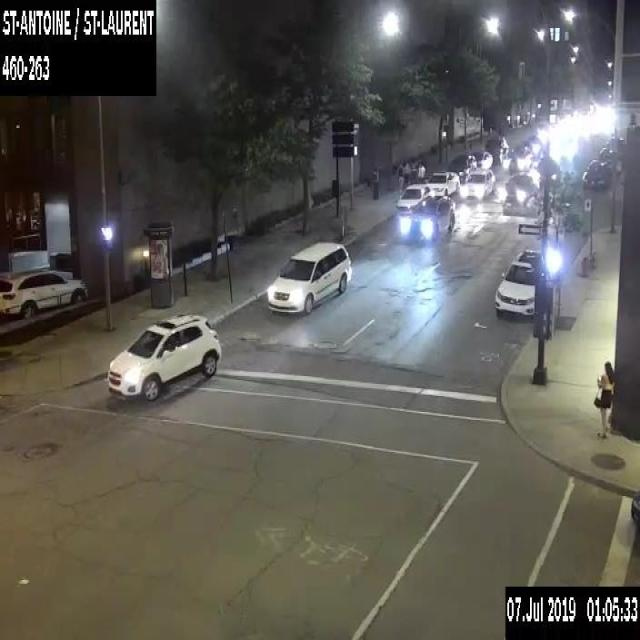pedestrian: (591, 359, 615, 436), (397, 157, 404, 191), (410, 157, 418, 183), (418, 160, 424, 182), (404, 160, 409, 185)
vehicle: (105, 308, 220, 403), (265, 239, 353, 316), (0, 267, 87, 317), (493, 245, 541, 319), (404, 194, 454, 233), (503, 173, 538, 214), (396, 182, 434, 212), (462, 168, 495, 197), (581, 160, 612, 190), (427, 168, 459, 196), (448, 152, 476, 182), (508, 146, 532, 175), (599, 136, 625, 162), (484, 136, 509, 163), (535, 157, 560, 183), (524, 133, 549, 156), (471, 149, 492, 170), (629, 492, 639, 524)
